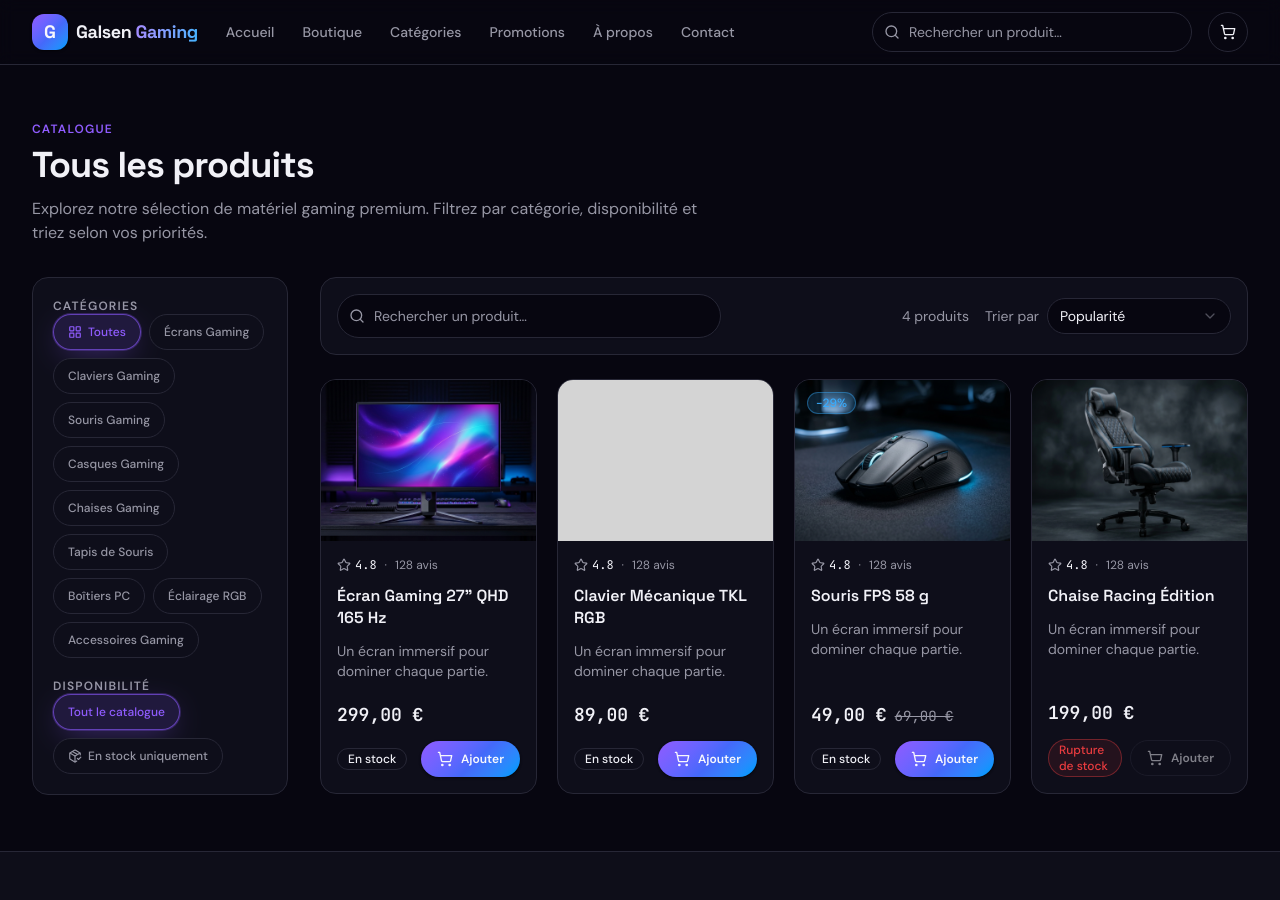
Test: ShopPage › shows an empty state when no product matches
This screenshot has width=1280, height=900.
Expected: the link "Écran Gaming 27\" QHD 165 Hz" is shown, [337, 585, 508, 628]
Type "zzzz-introuvable" into the search field with placeholder "Rechercher un produit…" in the row of "4 produits". click: (529,316)
box: [337, 294, 721, 338]
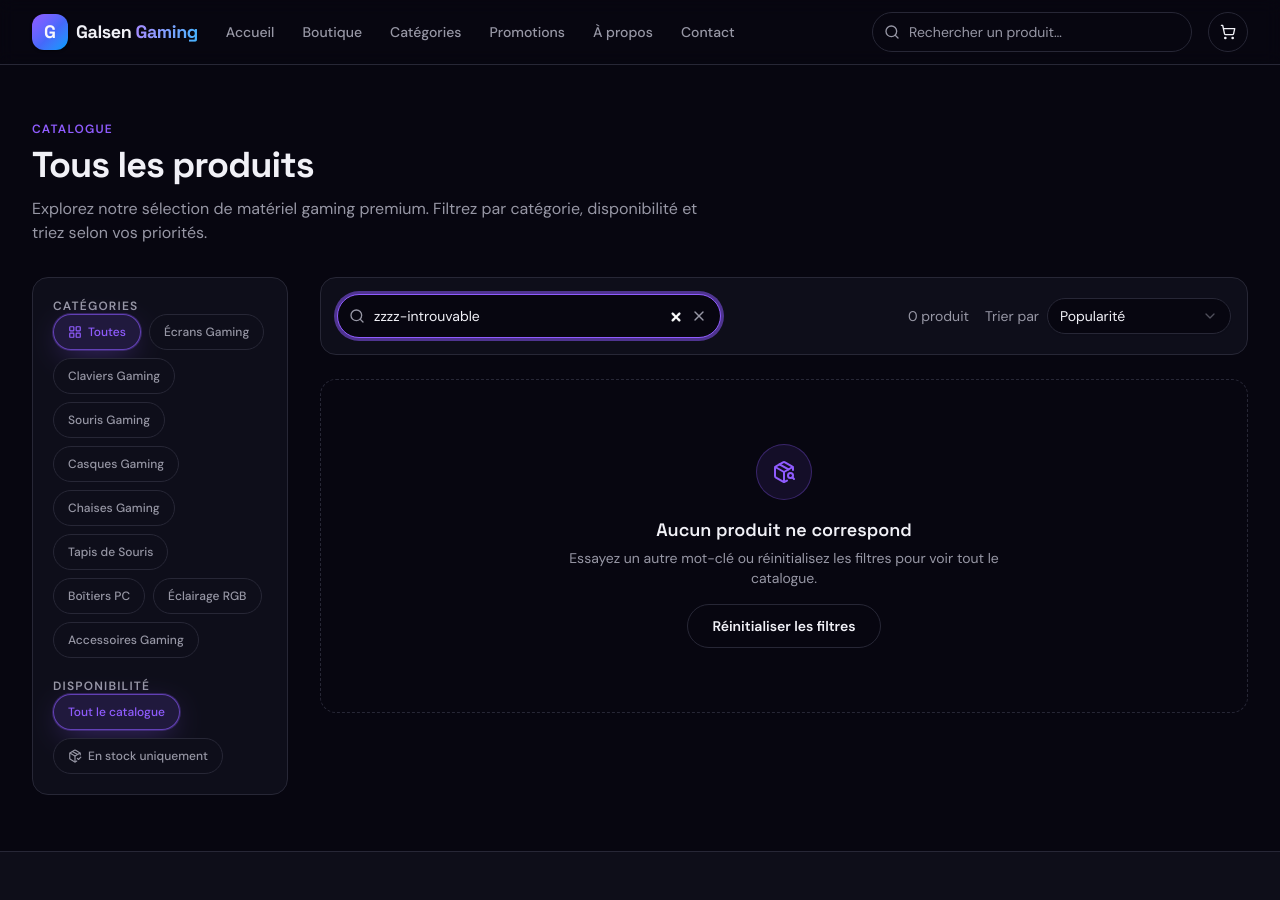
Now the heading "Aucun produit ne correspond" is shown, box [656, 518, 912, 541]
